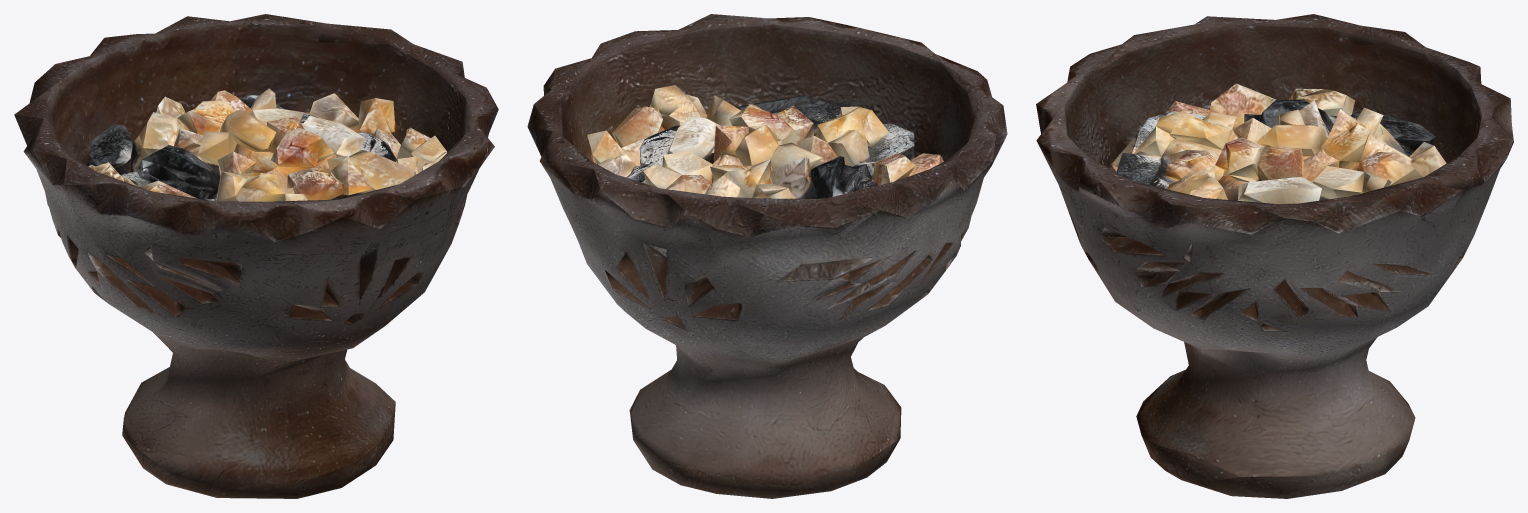
The model's file is COPA.obj.
3 views of the same model, side by side, from view 1: azimuth 30°, elevation 25°; view 2: azimuth 150°, elevation 25°; view 3: azimuth 270°, elevation 25° (orthographic).
Visible parts, largest first — view 1: model; view 2: model; view 3: model.
Boxes of the visible parts, box(x1,y1,x2,y2) form: model: box(14, 14, 498, 498); model: box(527, 14, 1007, 498); model: box(1036, 14, 1513, 498).
Bounding box in the file's own units: 1.93 × 1.49 × 1.9.
1 material, 1 textured.
